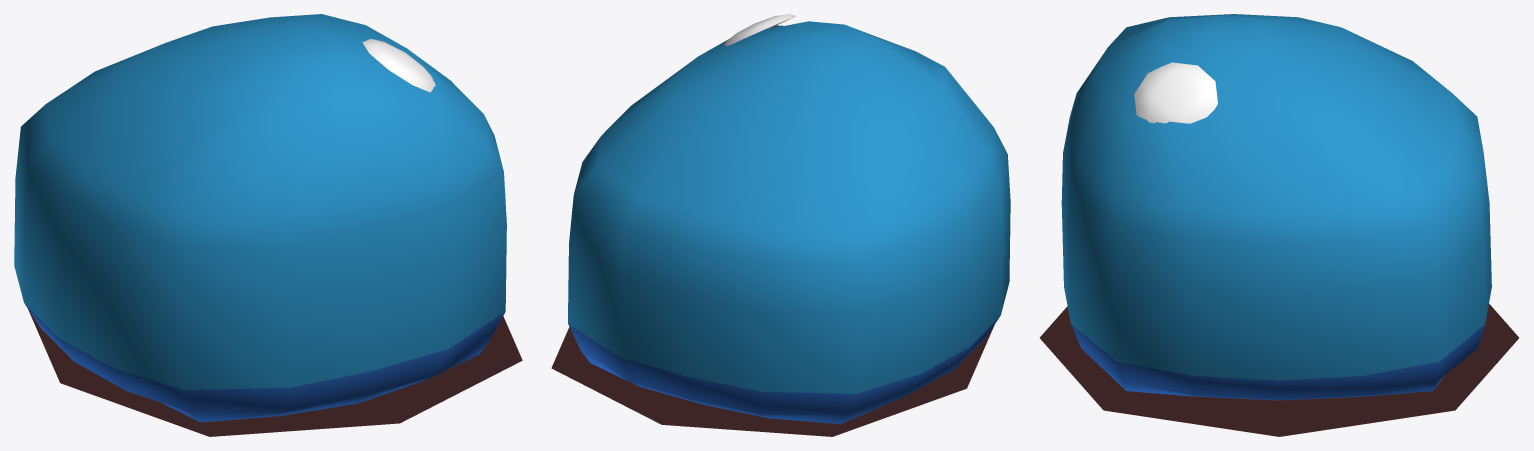
The model's file is Oozium238Mesh.AzureAsteroid.glb.
The picture shows the model from 3 angles, left to right: view 1: azimuth 30°, elevation 25°; view 2: azimuth 150°, elevation 25°; view 3: azimuth 270°, elevation 25°; orthographic projection. The views are drawn at different scales.
Parts seen in each view (by area): view 1: Oozium238Mesh.AzureAsteroid; view 2: Oozium238Mesh.AzureAsteroid; view 3: Oozium238Mesh.AzureAsteroid.
Part boxes in pixels (box(x1,y1,x2,y2)): Oozium238Mesh.AzureAsteroid: box(14, 14, 522, 436); Oozium238Mesh.AzureAsteroid: box(551, 14, 1010, 436); Oozium238Mesh.AzureAsteroid: box(1040, 14, 1518, 436).
Size of the model in its own units: 2.04 by 1.44 by 2.07.
1 material, 1 textured.
